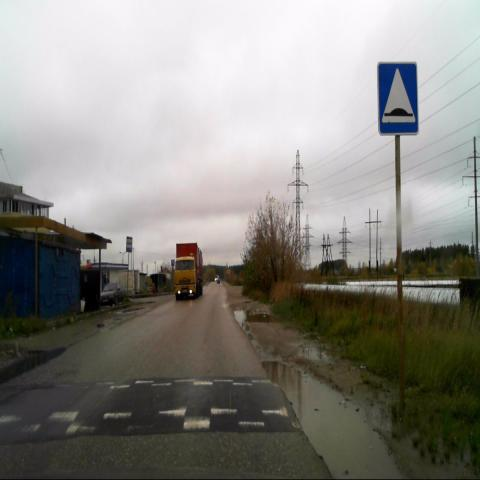5_16: (126, 236, 132, 252)
